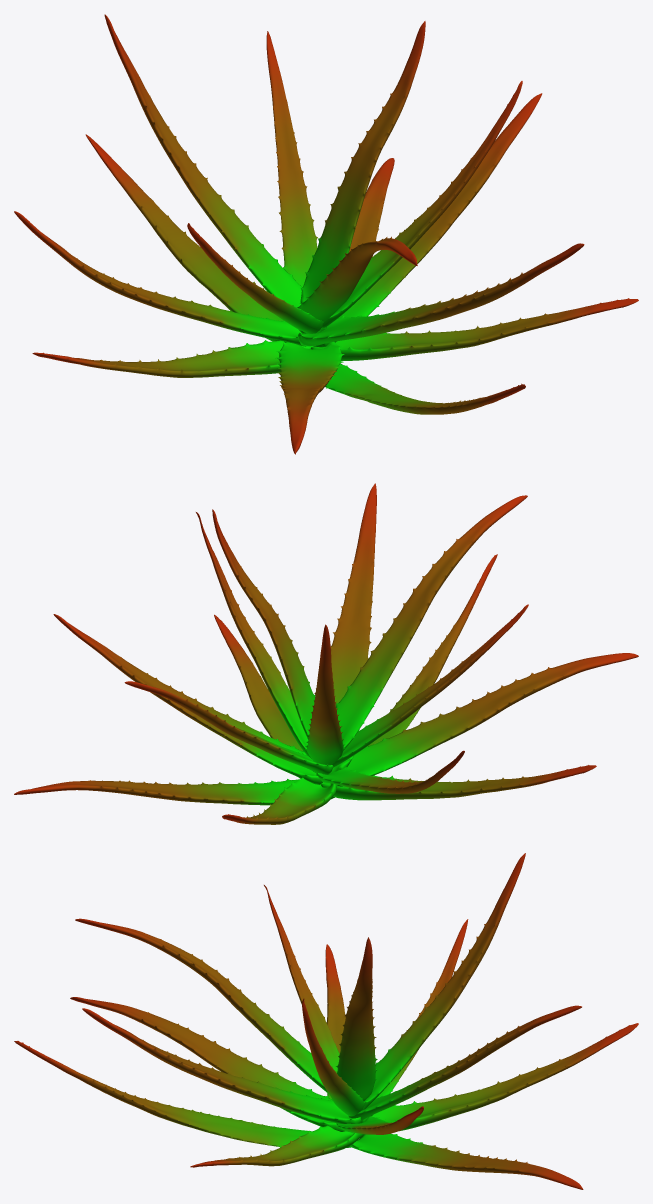
File: Aloe Vera_LOD0_Var5_ve4tbbrha.fbx
3 views of the same model, one above another, from view 1: azimuth 30°, elevation 25°; view 2: azimuth 150°, elevation 25°; view 3: azimuth 270°, elevation 25° (orthographic). The views are drawn at different scales.
Parts seen in each view (by area): view 1: _xv1y_Var5_LOD0; view 2: _xv1y_Var5_LOD0; view 3: _xv1y_Var5_LOD0.
Boxes of the visible parts, x1=… form: _xv1y_Var5_LOD0: x1=14, y1=14, x2=638, y2=454; _xv1y_Var5_LOD0: x1=14, y1=483, x2=638, y2=824; _xv1y_Var5_LOD0: x1=14, y1=853, x2=638, y2=1189.
Size of the model in its own units: 82.8 by 43.71 by 95.55.
